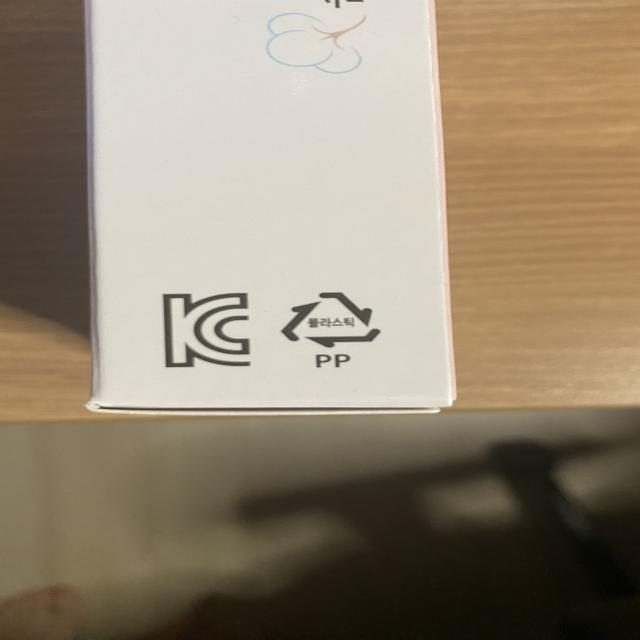Plastic: (275, 289, 383, 350)
